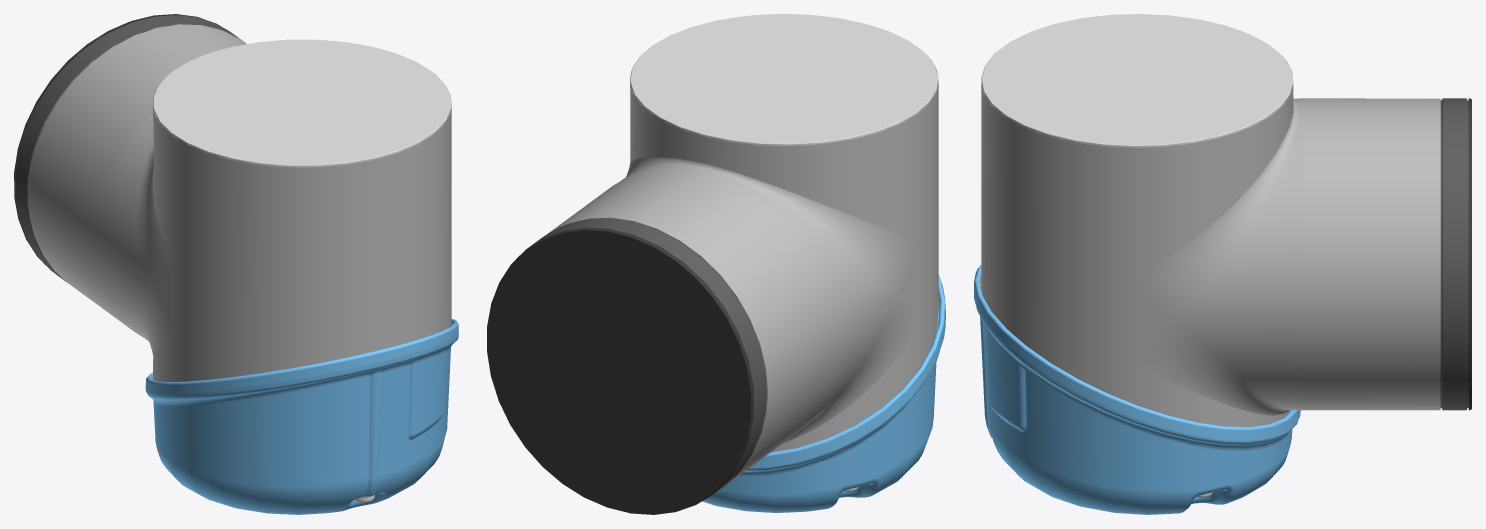
Rendered from wrist1.obj.
3 renders of one model, left to right at view 1: azimuth 30°, elevation 25°; view 2: azimuth 150°, elevation 25°; view 3: azimuth 270°, elevation 25°, orthographic. The views are drawn at different scales.
Visible parts, largest first — view 1: Link4_UR5_STEP-6, Link4_UR5_STEP-1, Link4_UR5_STEP-5, Link4_UR5_STEP-3, Link4_UR5_STEP, Link4_UR5_STEP-4; view 2: Link4_UR5_STEP-6, Link4_UR5_STEP-4, Link4_UR5_STEP-5, Link4_UR5_STEP-1, Link4_UR5_STEP-3, Link4_UR5_STEP; view 3: Link4_UR5_STEP-6, Link4_UR5_STEP-1, Link4_UR5_STEP-5, Link4_UR5_STEP-3, Link4_UR5_STEP, Link4_UR5_STEP-4.
Part boxes in pixels (left/top/right/bottom): Link4_UR5_STEP-6: left=27, top=24, right=451, bottom=381; Link4_UR5_STEP-1: left=145, top=319, right=458, bottom=514; Link4_UR5_STEP-5: left=154, top=40, right=449, bottom=502; Link4_UR5_STEP-3: left=15, top=15, right=243, bottom=283; Link4_UR5_STEP: left=153, top=39, right=451, bottom=167; Link4_UR5_STEP-4: left=14, top=14, right=221, bottom=271; Link4_UR5_STEP-6: left=549, top=81, right=938, bottom=485; Link4_UR5_STEP-4: left=487, top=227, right=753, bottom=514; Link4_UR5_STEP-5: left=631, top=14, right=935, bottom=491; Link4_UR5_STEP-1: left=702, top=275, right=945, bottom=512; Link4_UR5_STEP-3: left=516, top=218, right=766, bottom=499; Link4_UR5_STEP: left=630, top=14, right=938, bottom=145; Link4_UR5_STEP-6: left=981, top=81, right=1440, bottom=426; Link4_UR5_STEP-1: left=974, top=265, right=1300, bottom=514; Link4_UR5_STEP-5: left=983, top=14, right=1291, bottom=497; Link4_UR5_STEP-3: left=1440, top=98, right=1468, bottom=410; Link4_UR5_STEP: left=981, top=14, right=1293, bottom=147; Link4_UR5_STEP-4: left=1468, top=98, right=1471, bottom=410.
Size of the model in its own units: 0.0787 by 0.1023 by 0.1197.
